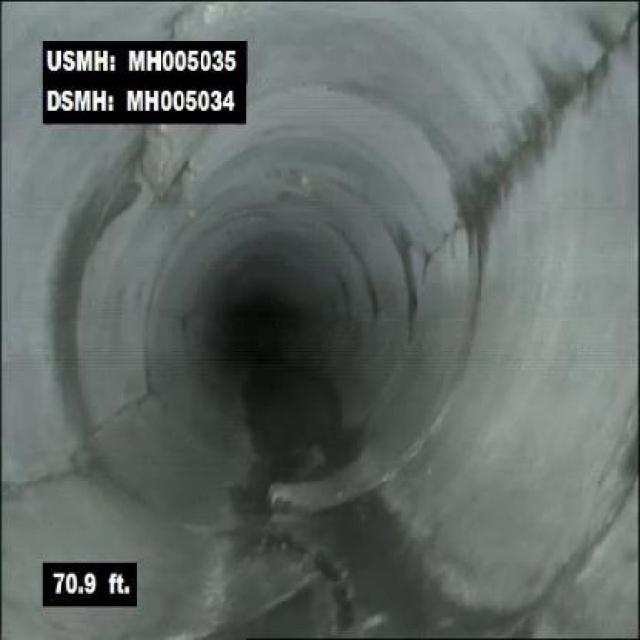Buckling: (129, 6, 249, 212), (257, 457, 374, 634)
Crack: (455, 17, 637, 229), (9, 392, 143, 503)
